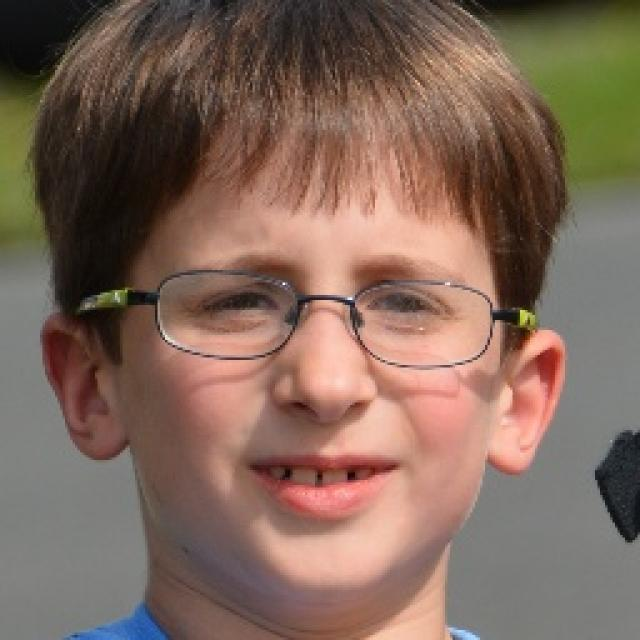earlobe: (483, 421, 534, 477), (80, 412, 130, 463)
eye: (205, 288, 276, 316), (366, 292, 440, 317)
nose: (269, 392, 386, 466)
wholeear: (40, 313, 130, 463), (484, 328, 568, 476)
